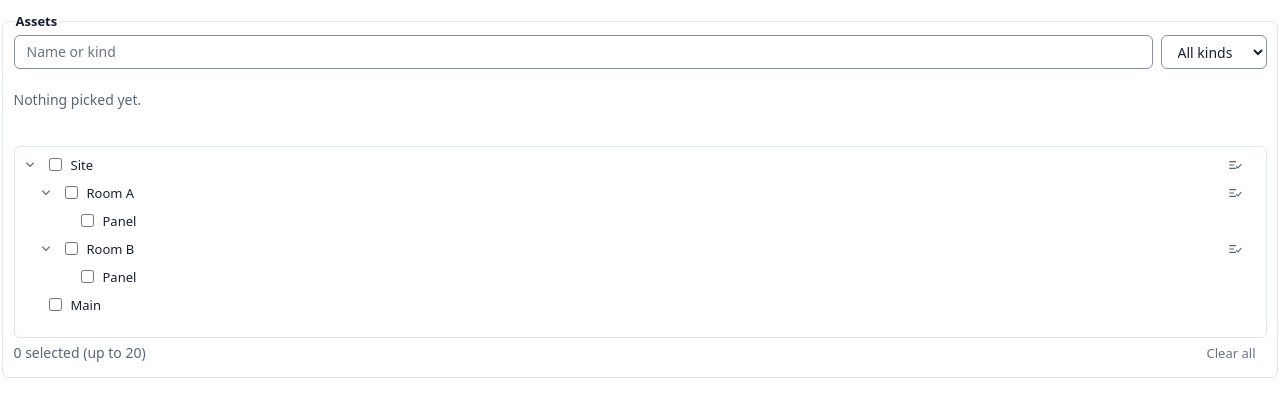
Test: AssetPicker search › says so when nothing matches
Type "zzz" into the search field named "Search assets" at (583, 52), box left=14, top=35, right=1152, bottom=69
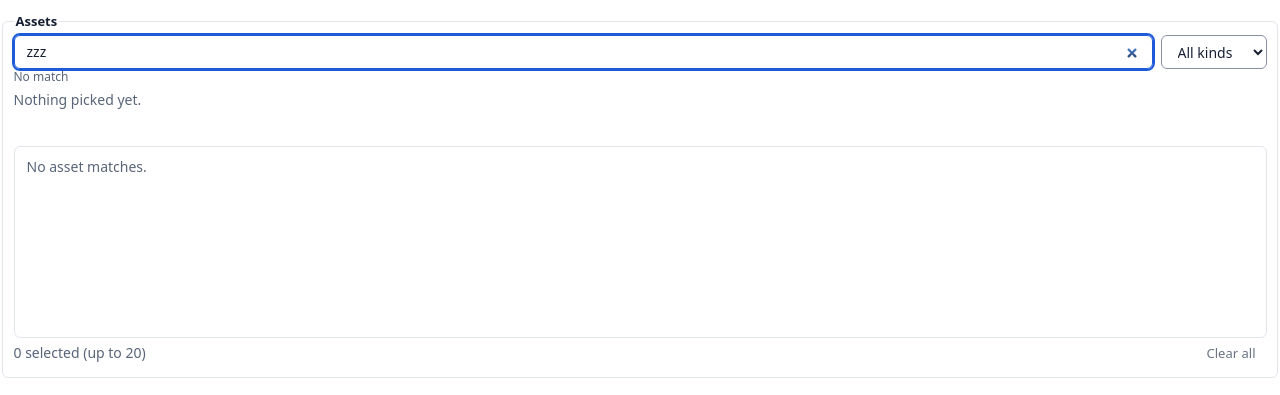
Result: no checkboxes are shown
Result: the text "No match" is shown at left=14, top=68, right=68, bottom=85
Result: the list item "No asset matches." is shown at left=26, top=157, right=147, bottom=176
